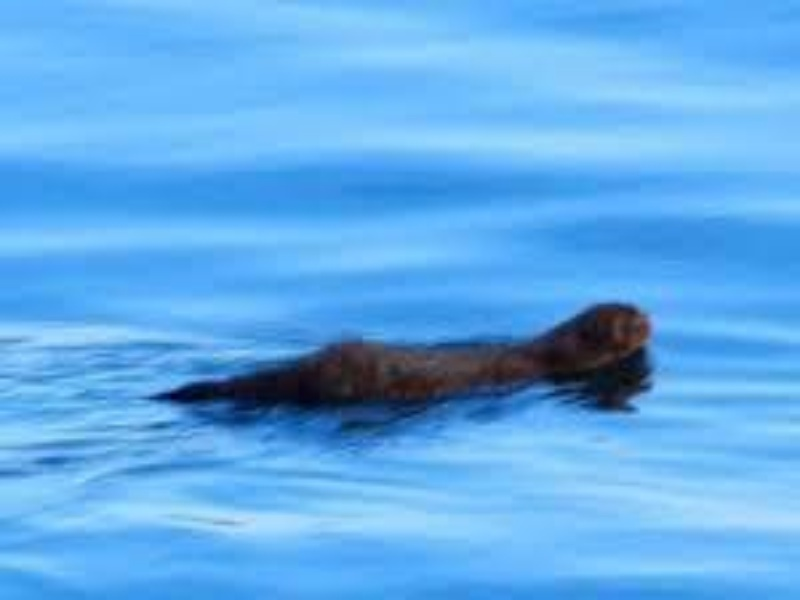minkish: (156, 298, 653, 411)
